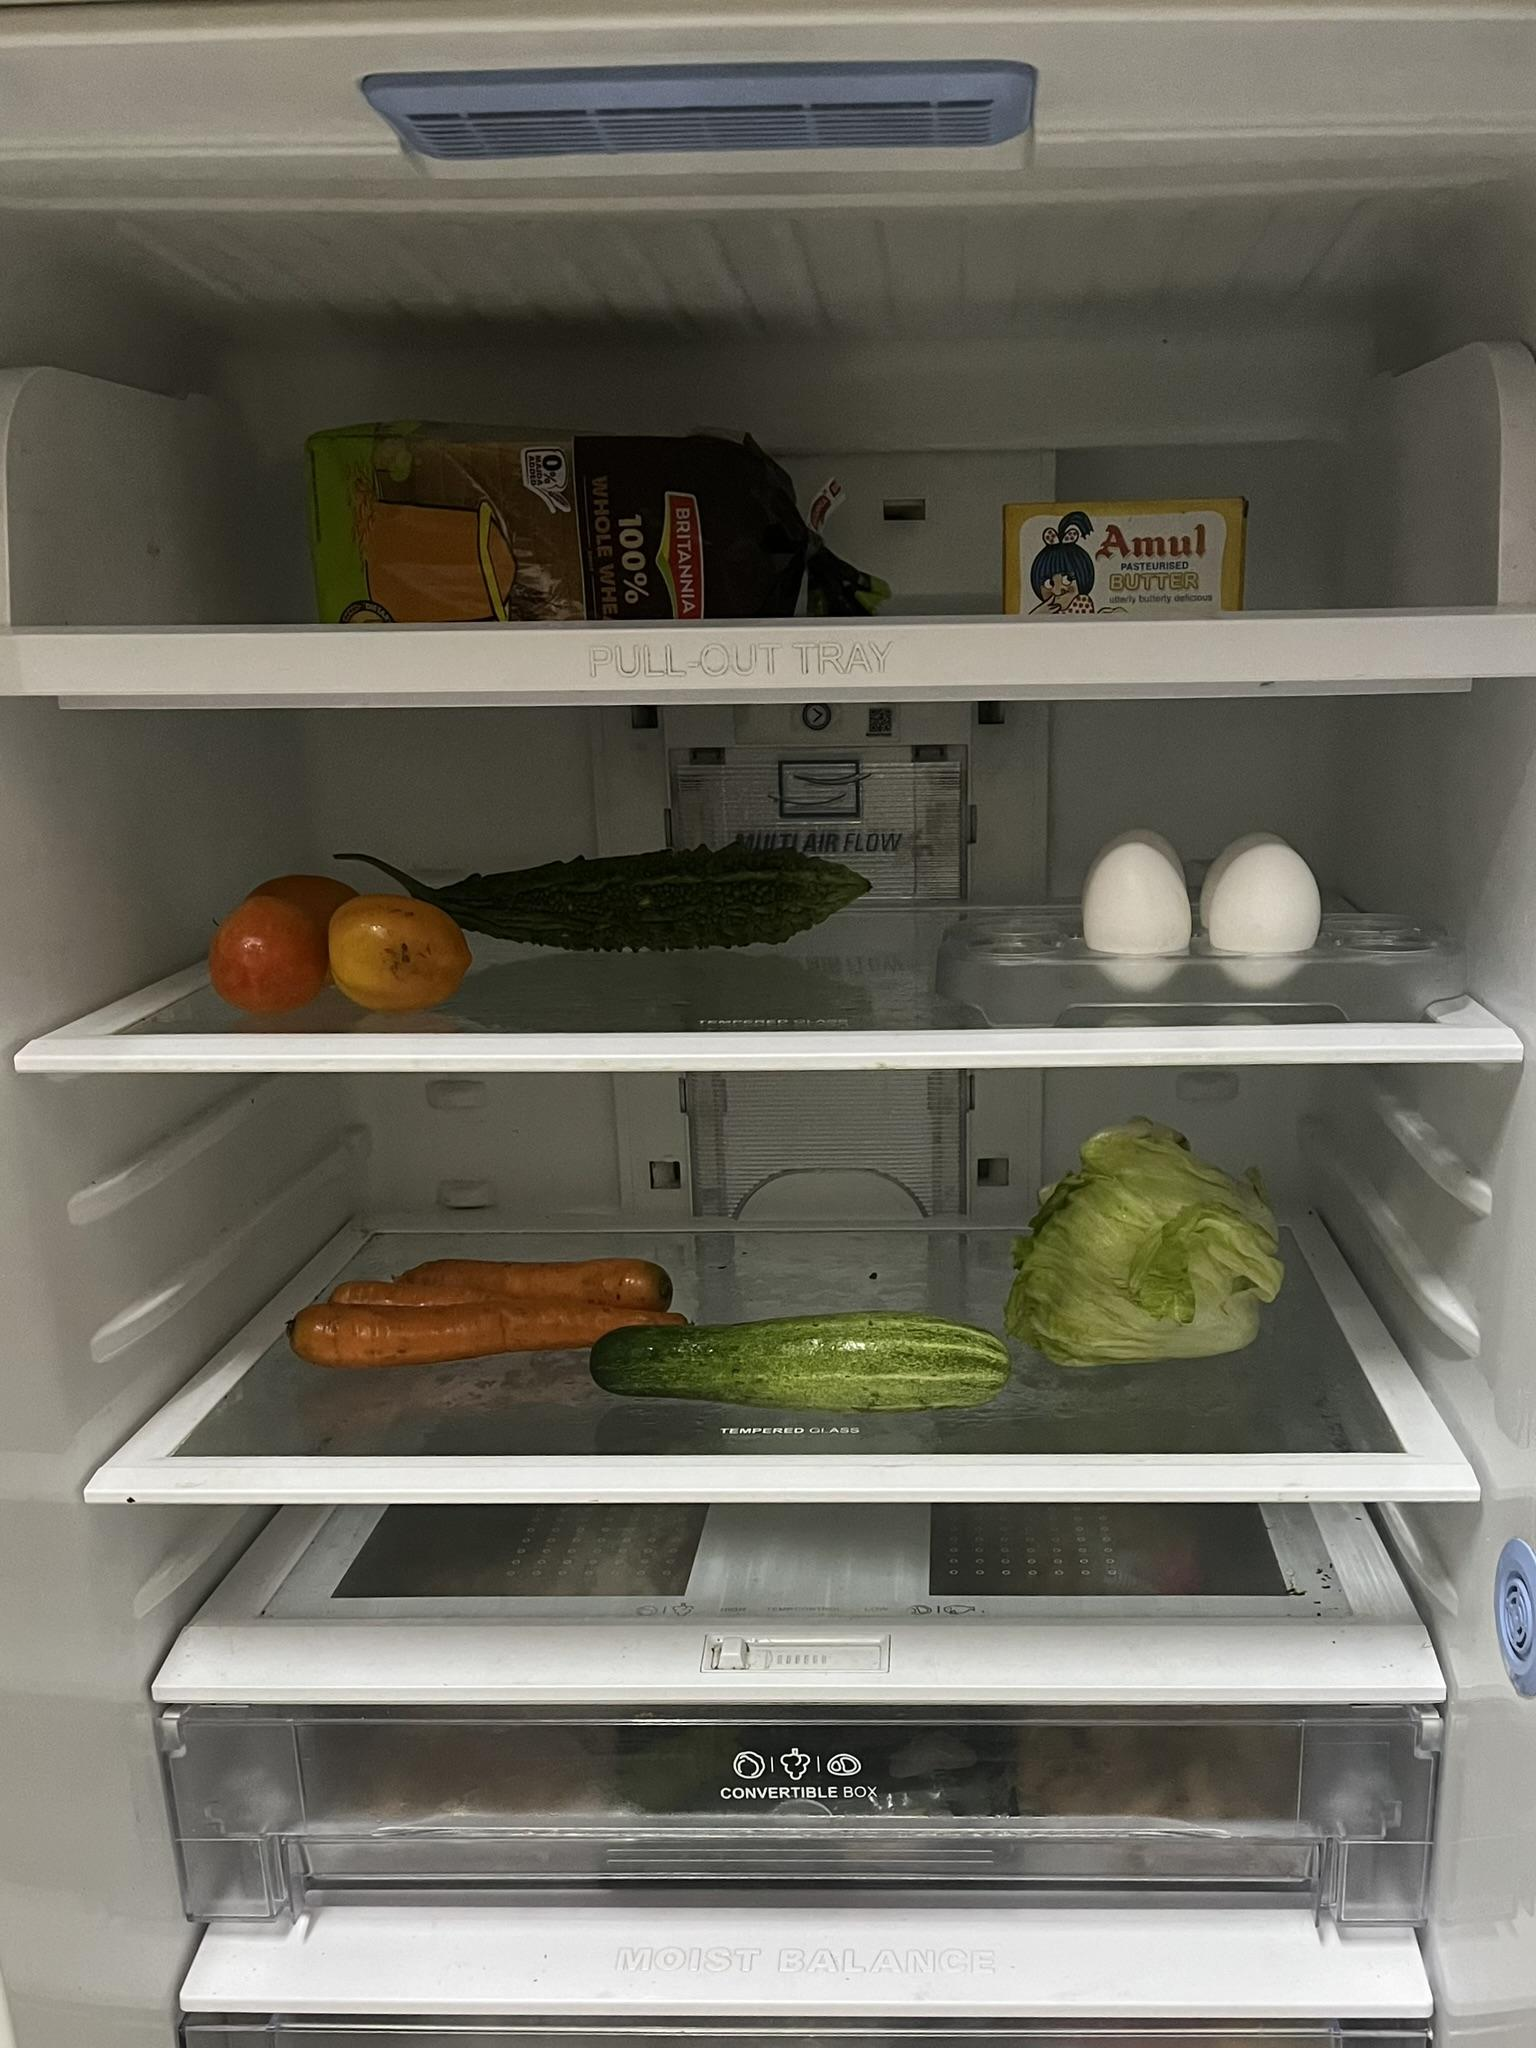bitter gaurd: (357, 837, 879, 953)
bread: (303, 424, 887, 624)
butter: (994, 487, 1260, 613)
carrots: (281, 1243, 684, 1356)
cucumber: (594, 1309, 1020, 1406)
egg: (1083, 816, 1313, 966)
lettuce: (1023, 1113, 1283, 1374)
tomato: (210, 860, 466, 1016)
